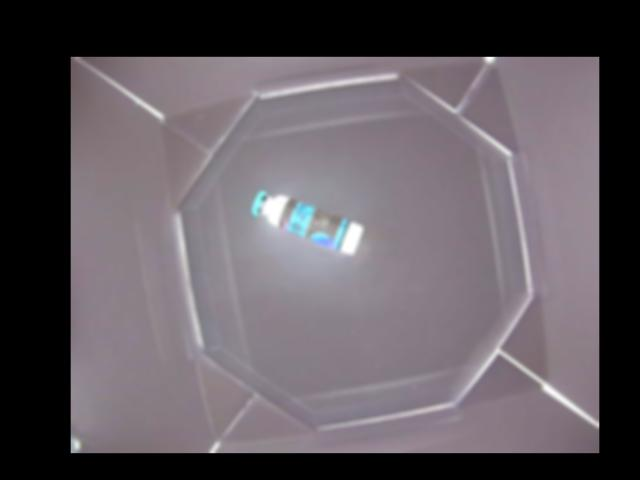Medicine: (250, 188, 364, 255)
